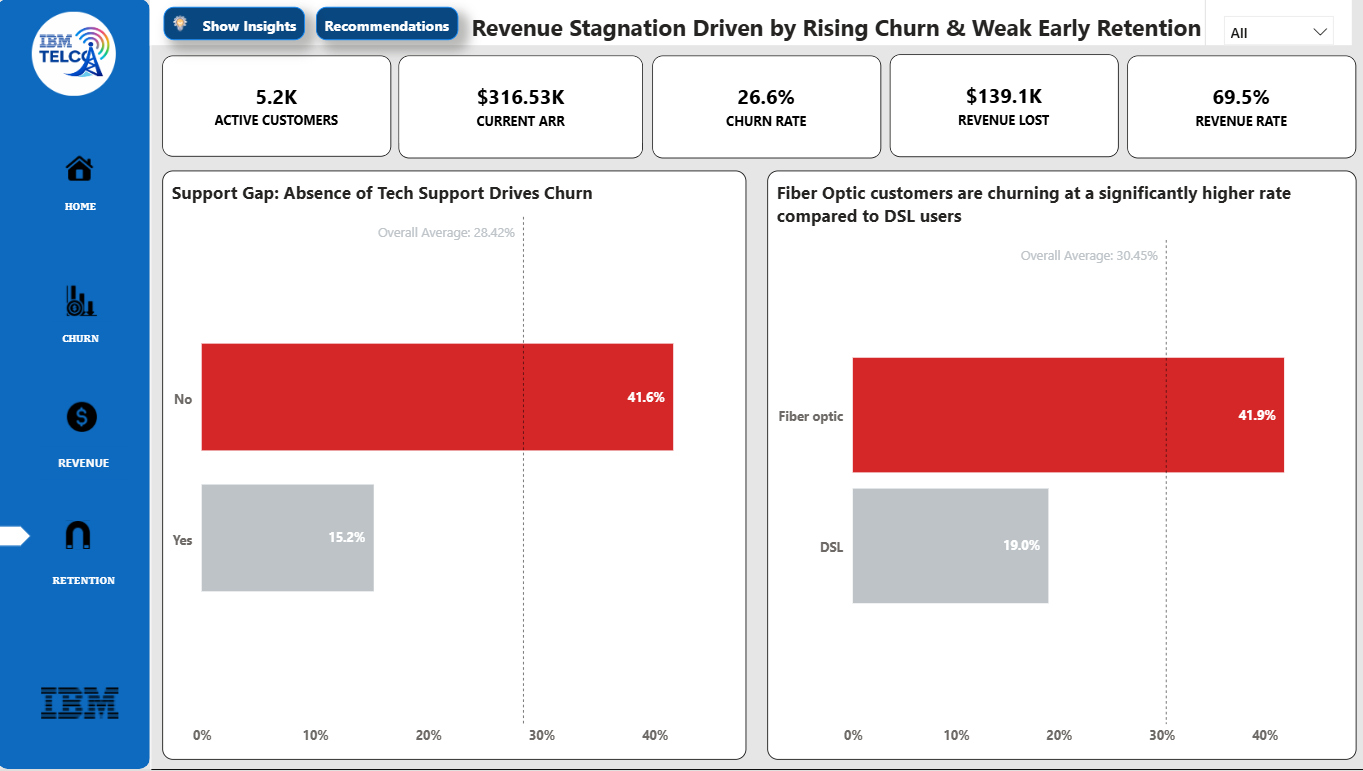

The dashboard page shown, as its layout file describes it:
{"tool":"powerbi","page":{"name":"Retention Drivers","canvas":[1280,720],"ordinal":3},"visuals":[{"type":"clusteredBarChart","title":"Support Gap: Absence of Tech Support Drives Churn","fields":{"Category":["tech support impact.TechSupport"],"Y":["tech support impact.churned_rate_tech"]},"box":[154.6,160.7,544.8,549.7],"z":0},{"type":"clusteredBarChart","title":"Fiber Optic customers are churning at a significantly higher rate compared to DSL users","fields":{"Category":["feature adoption impact.InternetService"],"Y":["feature adoption impact.churn feature rate"]},"box":[719,160.7,549.7,549.7],"z":1000},{"type":"shape","box":[0,0,144.8,720.2],"z":2000},{"type":"actionButton","box":[49.1,127.6,57.7,66.3],"z":3000},{"type":"actionButton","box":[51.5,246.6,57.7,69.9],"z":4000},{"type":"actionButton","box":[51.5,360.7,57.7,61.4],"z":5000},{"type":"textbox","box":[51.5,177.9,55.2,33.1],"z":6000},{"type":"textbox","box":[51.5,301.8,55.2,33.1],"z":7000},{"type":"textbox","box":[42.9,418.4,77.3,30.7],"z":8000},{"type":"actionButton","box":[51.5,476.1,55.2,50.3],"z":9000},{"type":"textbox","box":[42.9,526.4,77.3,39.3],"z":10000},{"type":"image","box":[22.1,618.4,111.7,82.2],"z":11000},{"type":"image","box":[22.1,12.3,100.6,78.5],"z":12000},{"type":"textbox","box":[143.6,0,984,44],"z":13000},{"type":"actionButton","title":"recom button","box":[298.2,8,132.5,31],"z":15000},{"type":"shape","box":[0,492,33.1,19.6],"z":16000},{"type":"cardVisual","fields":{"Data":["CUSTOMERS.KPI Card Display"]},"box":[154.6,54,213.5,94],"z":21000},{"type":"cardVisual","fields":{"Data":["ARR.KPI CARD ARR"]},"box":[375.5,54,228.2,95.7],"z":22000},{"type":"cardVisual","fields":{"Data":["churn per year - churn per year.KPI CR"]},"box":[612,54,213.5,95.7],"z":23000},{"type":"cardVisual","fields":{"Data":["annual churn mrr.kpi churn mrr"]},"box":[834,53,213.5,95.7],"z":24000},{"type":"cardVisual","fields":{"Data":["revenue rate.kpi rr"]},"box":[1055.2,54,213.5,95.7],"z":25000},{"type":"slicer","fields":{"Values":["ARR.YEAR"]},"box":[1128.8,0,136.2,44.2],"z":26000},{"type":"actionButton","title":"insight button","box":[155.8,8,132,31],"z":26500}]}

Visuals, with their boxes on the page's 1280x720 design canvas (x1, y1, x2, y2). These are canvas units, not pixel positions in the 1363x771 screenshot, which may show the page scaled, cropped or inside an application window:
"Support Gap: Absence of Tech Support Drives Churn" clusteredBarChart: <box>155,161,699,710</box>
"Fiber Optic customers are churning at a significantly higher rate compared to DSL users" clusteredBarChart: <box>719,161,1269,710</box>
shape: <box>0,0,145,720</box>
actionButton: <box>49,128,107,194</box>
actionButton: <box>52,247,109,316</box>
actionButton: <box>52,361,109,422</box>
textbox: <box>52,178,107,211</box>
textbox: <box>52,302,107,335</box>
textbox: <box>43,418,120,449</box>
actionButton: <box>52,476,107,526</box>
textbox: <box>43,526,120,566</box>
image: <box>22,618,134,701</box>
image: <box>22,12,123,91</box>
textbox: <box>144,0,1128,44</box>
"recom button" actionButton: <box>298,8,431,39</box>
shape: <box>0,492,33,512</box>
cardVisual - CUSTOMERS.KPI Card Display: <box>155,54,368,148</box>
cardVisual - ARR.KPI CARD ARR: <box>376,54,604,150</box>
cardVisual - churn per year - churn per year.KPI CR: <box>612,54,826,150</box>
cardVisual - annual churn mrr.kpi churn mrr: <box>834,53,1048,149</box>
cardVisual - revenue rate.kpi rr: <box>1055,54,1269,150</box>
slicer - ARR.YEAR: <box>1129,0,1265,44</box>
"insight button" actionButton: <box>156,8,288,39</box>
